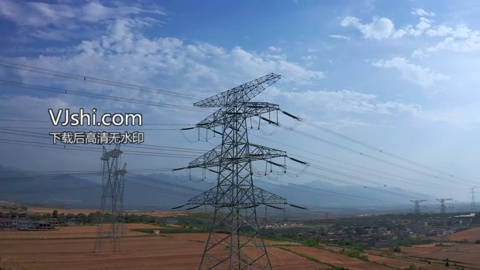tower_body: (184, 69, 286, 270)
tower_foot: (201, 225, 270, 270)
tower_head: (189, 74, 283, 127)
